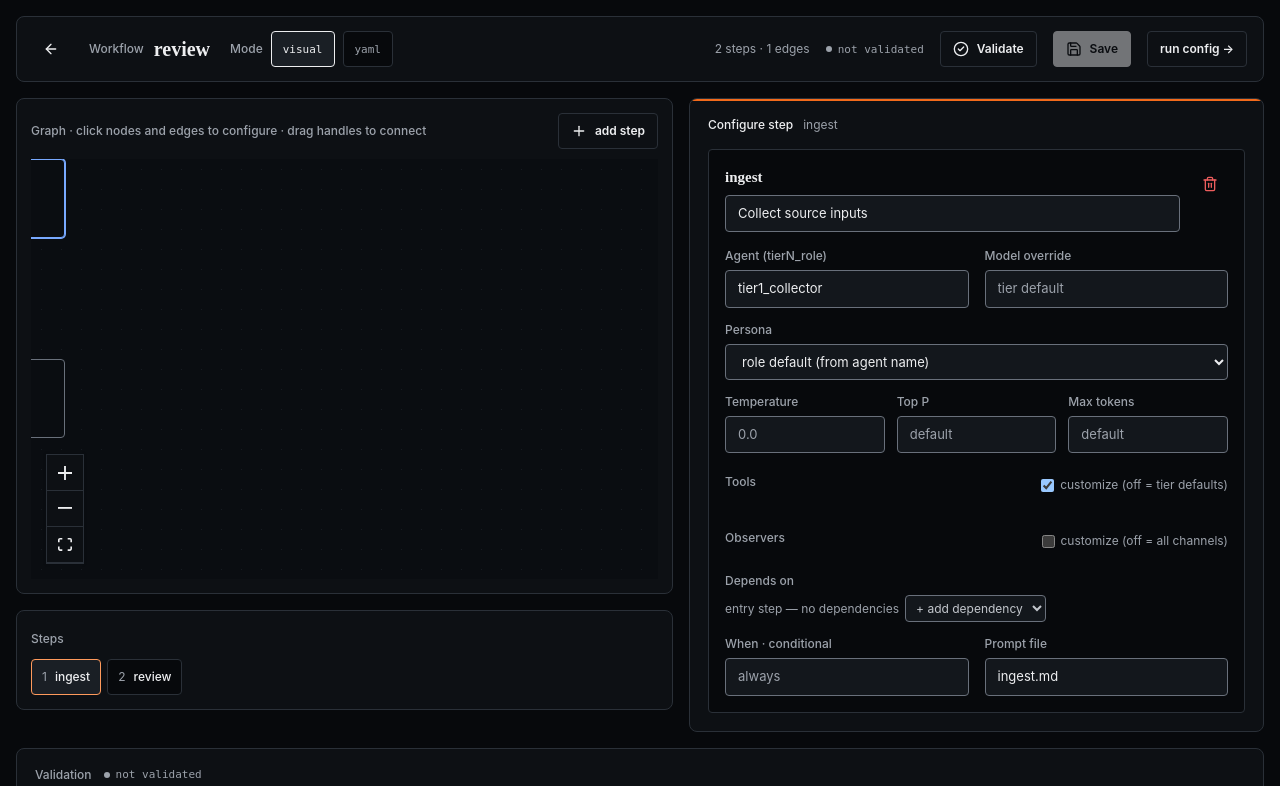
Scenario: WorkflowEditorPage › switches modes without prompting when there are no unsaved changes
Step 1. Click the button "yaml" → (368, 49), box [342,31,393,67]
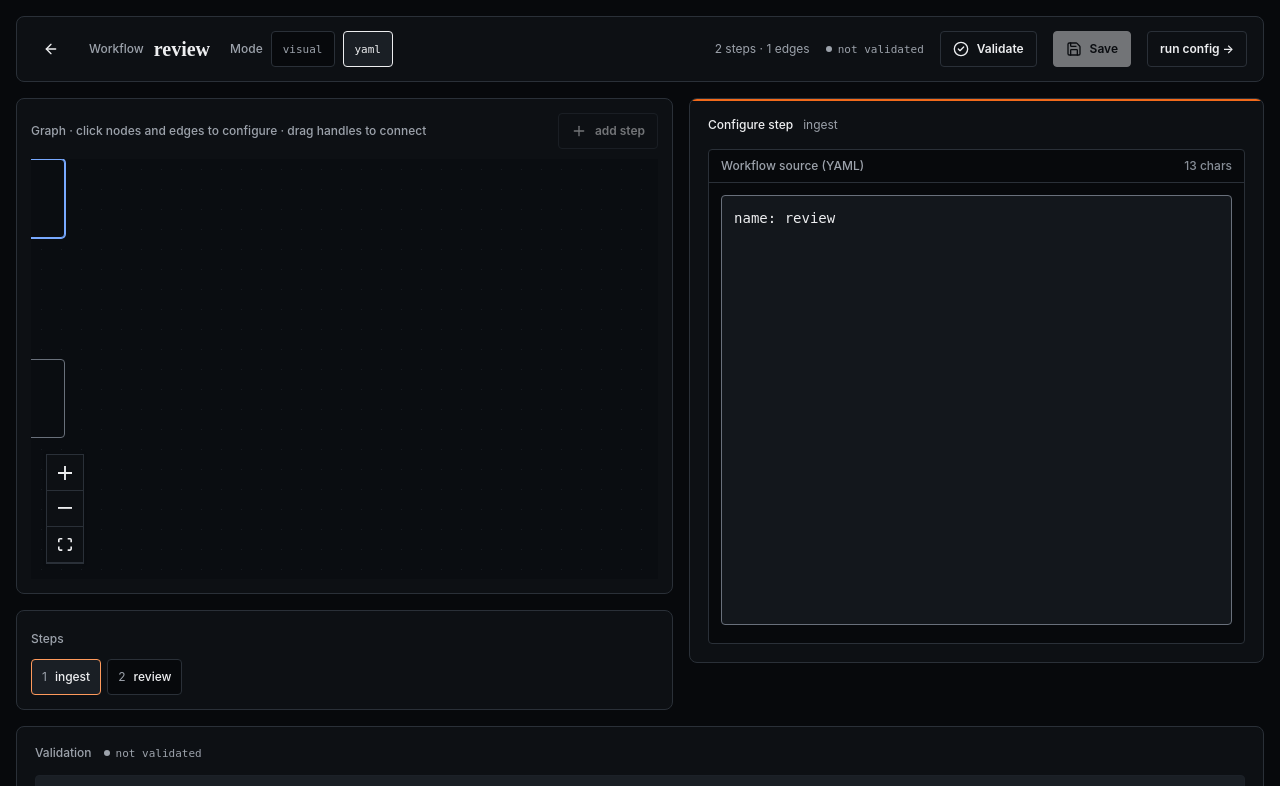
Expected: the text box named "Workflow source" is shown, [721,195,1232,625]
